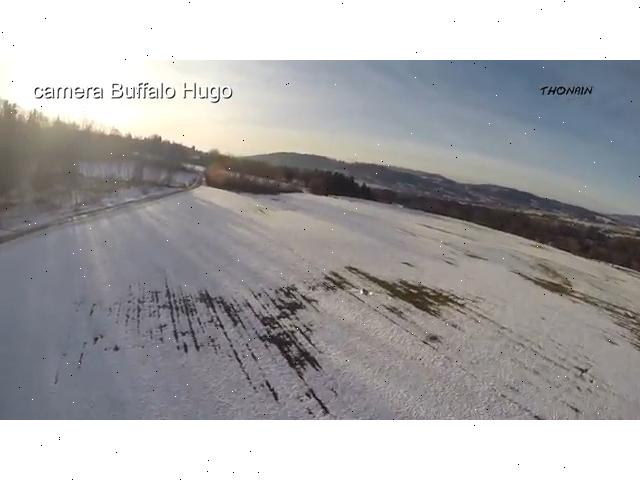Anti-Drone: (331, 277, 409, 311)
